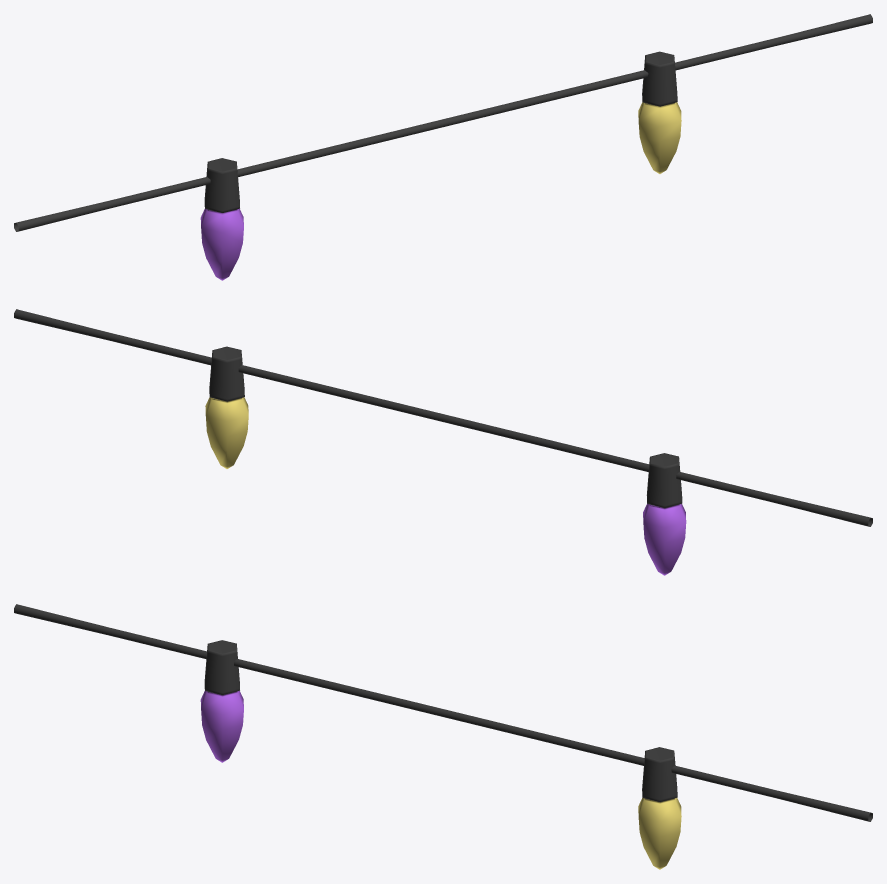
The model's file is SM_Hanging_Lights_var3.FBX.
3 renders of one model, top to bottom at view 1: azimuth 30°, elevation 25°; view 2: azimuth 150°, elevation 25°; view 3: azimuth 330°, elevation 25°, orthographic.
Parts seen in each view (by area): view 1: SM_Hanging_Lights_var3_LOD0; view 2: SM_Hanging_Lights_var3_LOD0; view 3: SM_Hanging_Lights_var3_LOD0.
Part boxes in pixels (x1,y1,x2,y2): SM_Hanging_Lights_var3_LOD0: (14, 14, 872, 280); SM_Hanging_Lights_var3_LOD0: (14, 309, 872, 575); SM_Hanging_Lights_var3_LOD0: (14, 604, 872, 869).
Bounding box in the file's own units: 198 × 8.7 × 25.71.
